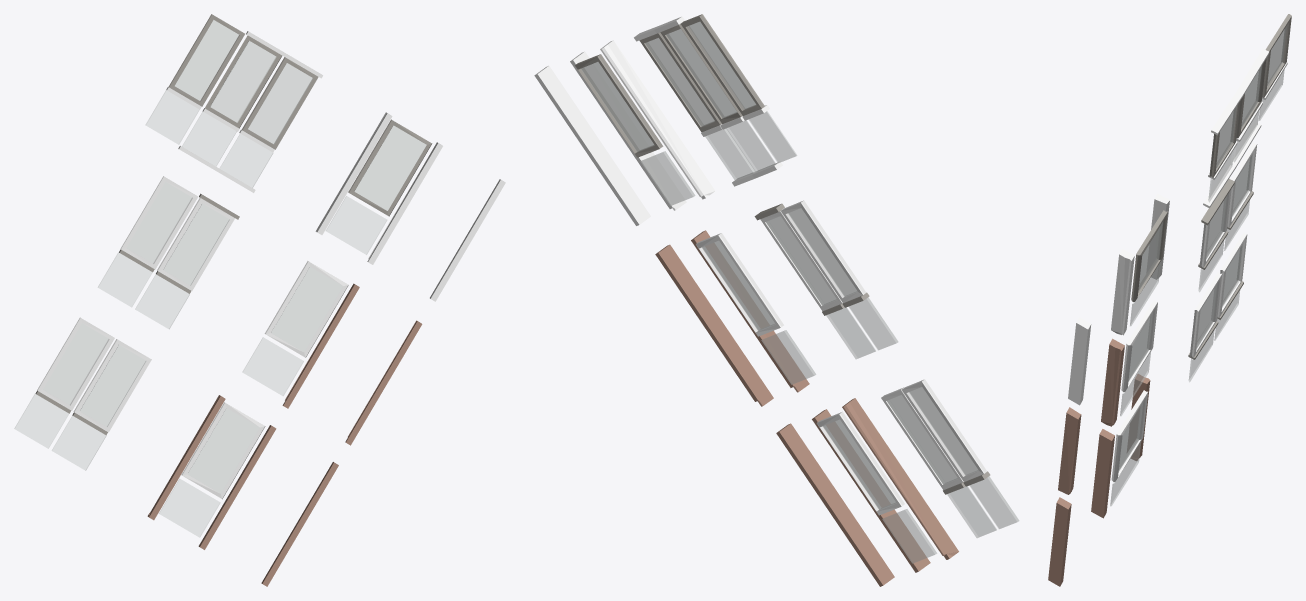
3 views of the same model, side by side, from view 1: azimuth 30°, elevation 25°; view 2: azimuth 150°, elevation 25°; view 3: azimuth 270°, elevation 25° (orthographic). The views are drawn at different scales.
Visible parts, largest first — view 1: mesh; view 2: mesh; view 3: mesh.
Boxes of the visible parts, bbox=[...] form: mesh: bbox=[14, 14, 505, 586]; mesh: bbox=[534, 14, 1019, 586]; mesh: bbox=[1048, 14, 1291, 586].
Size of the model in its own units: 9.06 by 9.94 by 3.68.
